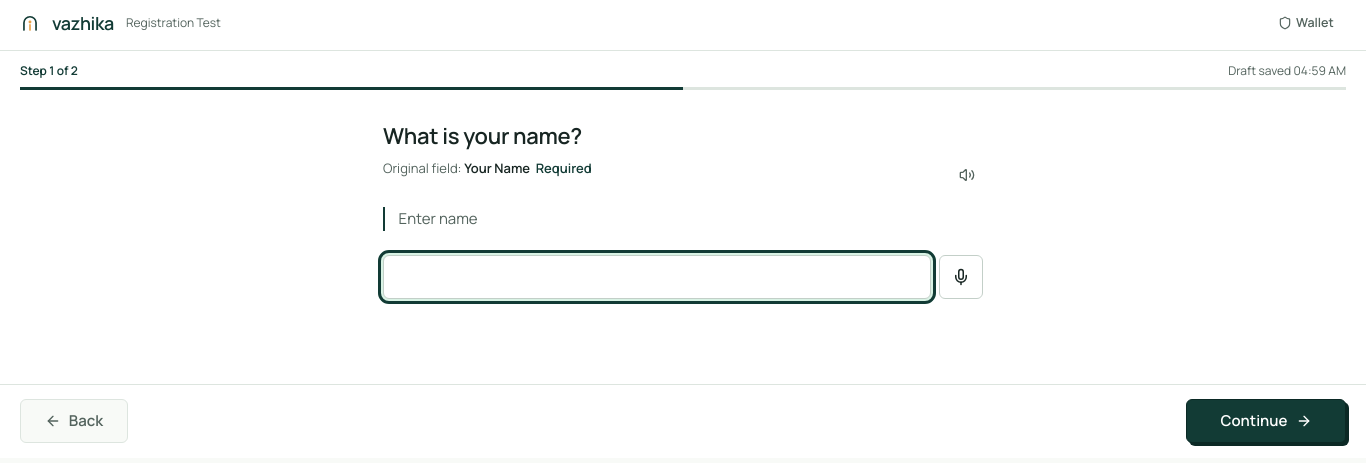
Test: GuidedWorkflow UI & Keyboard Interaction › renders one question at a time and moves forward when valid
Expected: the heading "What is your name?" is shown, [383, 122, 582, 151]
Expected: the text "Step 1 of 2" is shown, [20, 62, 78, 80]
// Try clicking continue without value (required check should fail)
Click the button "Continue" at [1266, 421], box [1186, 399, 1346, 443]
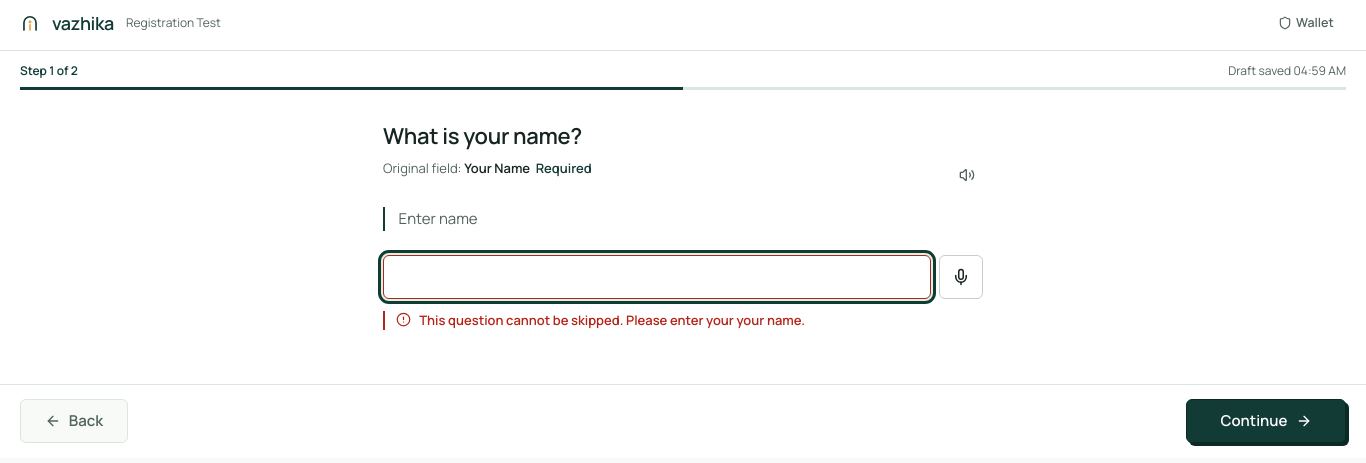
Result: the message "This question cannot be skipped. Please enter your your name." is shown at [383, 311, 983, 330]
// Type value
Type "Siddharth" into the field at [657, 277], box [383, 255, 931, 299]
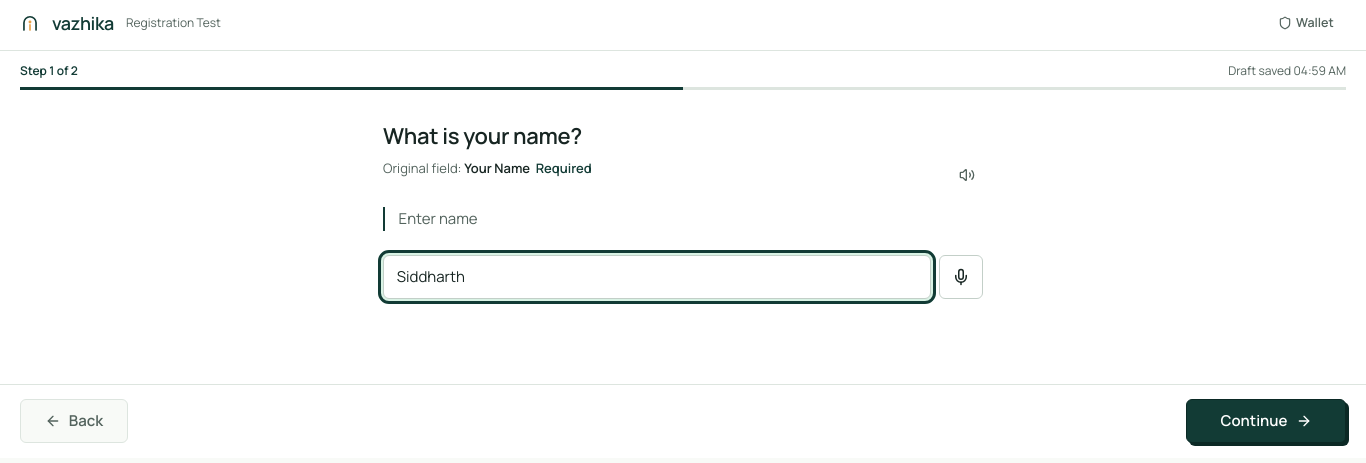
// Now click Continue
Click the button "Continue" at [1266, 421], box [1186, 399, 1346, 443]
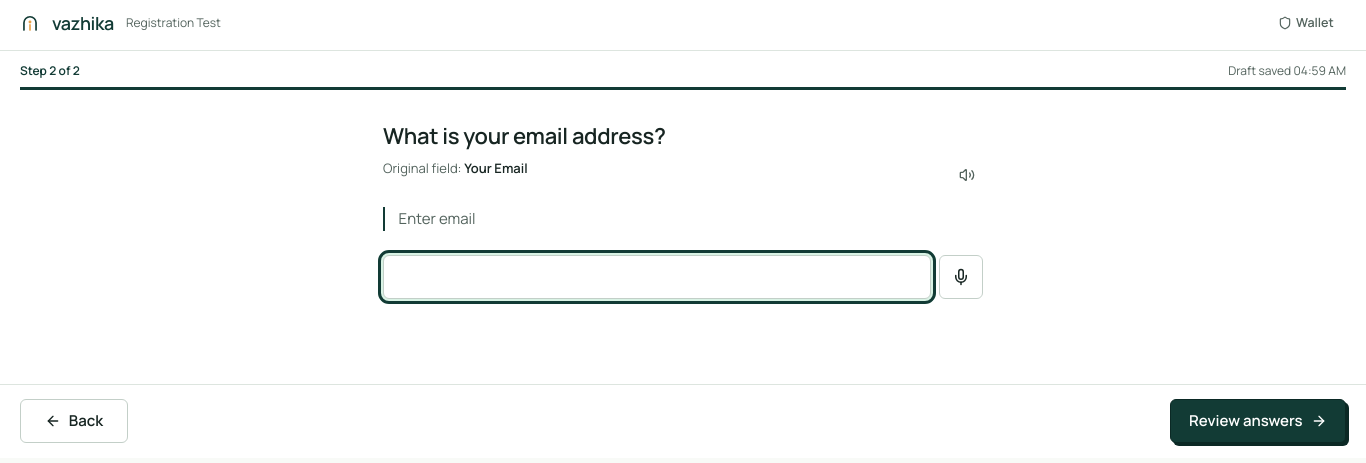
Result: the heading "What is your email address?" is shown at [383, 122, 666, 151]
Result: the text "Step 2 of 2" is shown at [20, 62, 80, 80]
